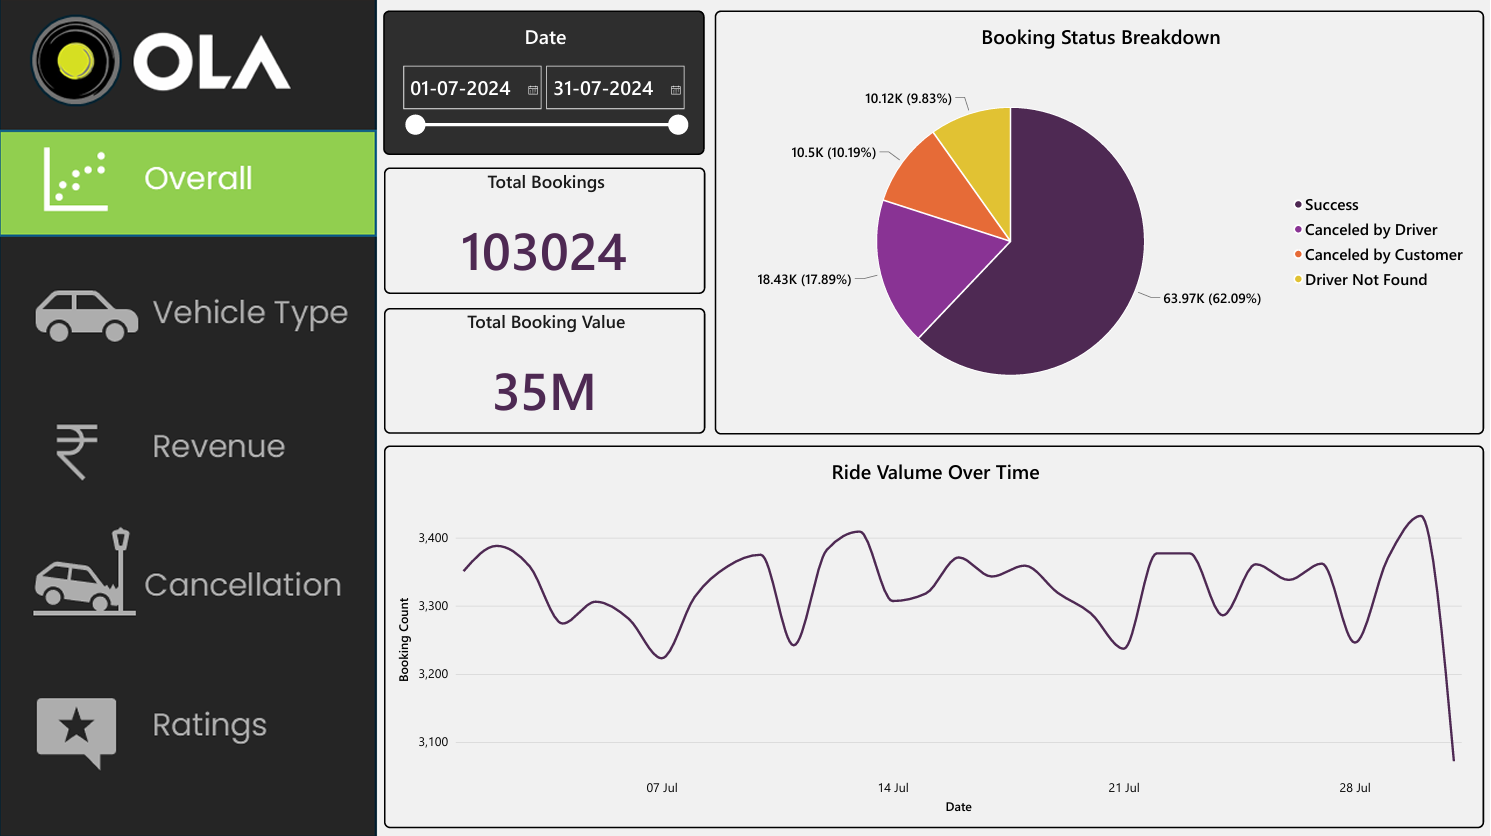

This screenshot's page, from the dashboard's own definition file:
{"tool":"powerbi","page":{"name":"Overall","canvas":[1920,1080],"ordinal":0},"visuals":[{"type":"actionButton","box":[0,328.9,484.2,133.6],"z":0},{"type":"actionButton","box":[0,507.6,484.2,133.6],"z":1000},{"type":"actionButton","box":[0,667.9,484.2,133.6],"z":2000},{"type":"actionButton","box":[0,873.3,484.2,133.6],"z":3000},{"type":"lineChart","title":"Ride Valume Over Time","fields":{"Category":["Bookings.Date.Variation.Date Hierarchy.Year","Bookings.Date.Variation.Date Hierarchy.Quarter","Bookings.Date.Variation.Date Hierarchy.Month","Bookings.Date.Variation.Date Hierarchy.Day"],"Y":["CountNonNull(Bookings.Booking_ID)"]},"box":[494.8,574.1,1417.2,493.1],"z":4000},{"type":"pieChart","title":"Booking Status Breakdown","fields":{"Category":["Bookings.Booking_Status"],"Y":["CountNonNull(Bookings.Booking_Status)"]},"box":[920.7,13.8,991.4,546.6],"z":5000},{"type":"slicer","title":"Date","fields":{"Values":["Bookings.Date"]},"box":[494,14,414,186],"z":6000},{"type":"cardVisual","title":"Total Bookings","fields":{"Data":["CountNonNull(Bookings.Booking_ID)"]},"box":[494.8,215.5,413.8,163.8],"z":7000},{"type":"cardVisual","title":"Total Booking Value","fields":{"Data":["Sum(Bookings.Booking_Value)"]},"box":[494.8,396.6,413.8,162.1],"z":8000}]}

Visuals, with their boxes in screenshot pixels (x1, y1, x2, y2), scaled from the page's 1920x1080 canvas onto the 1491x836 screenshot:
actionButton: [0, 255, 376, 358]
actionButton: [0, 393, 376, 496]
actionButton: [0, 517, 376, 620]
actionButton: [0, 676, 376, 779]
"Ride Valume Over Time" lineChart: [384, 444, 1485, 826]
"Booking Status Breakdown" pieChart: [715, 11, 1485, 434]
"Date" slicer: [384, 11, 705, 155]
"Total Bookings" cardVisual: [384, 167, 706, 294]
"Total Booking Value" cardVisual: [384, 307, 706, 432]
